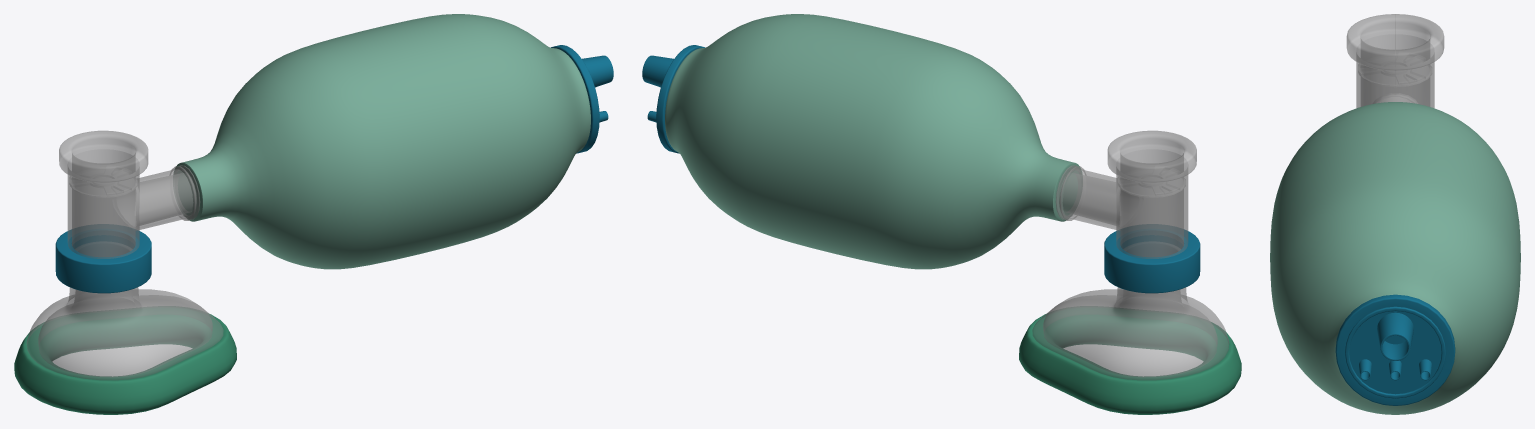
Rendered from AmbuBag.fbx.
3 views of the same model, side by side, from view 1: azimuth 30°, elevation 25°; view 2: azimuth 150°, elevation 25°; view 3: azimuth 270°, elevation 25° (orthographic). The views are drawn at different scales.
Parts seen in each view (by area): view 1: AmpuBag_01; view 2: AmpuBag_01; view 3: AmpuBag_01.
Part boxes in pixels (<box>): AmpuBag_01: <box>14,14,613,414</box>; AmpuBag_01: <box>642,14,1241,414</box>; AmpuBag_01: <box>1270,14,1520,414</box>.
Bounding box in the file's own units: 146 × 65.4 × 50.15.
